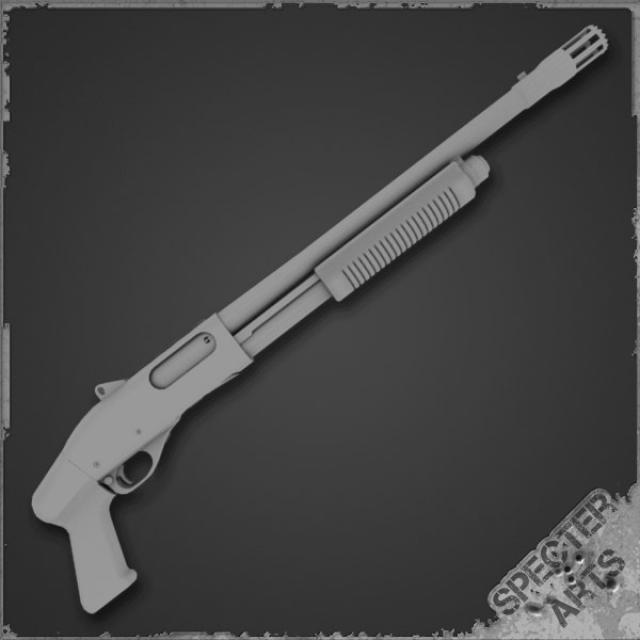ShotGun: (30, 22, 609, 618)
